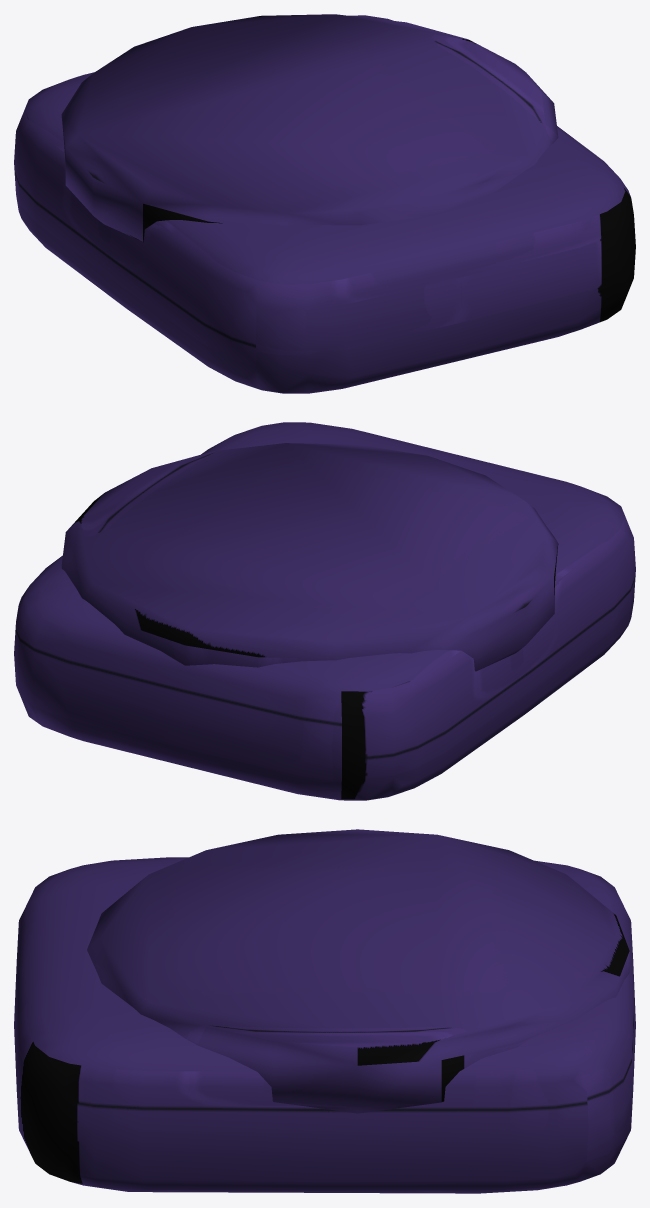
Rendered from Estela_BotaIzq.fbx.
The picture shows the model from 3 angles, top to bottom: view 1: azimuth 30°, elevation 25°; view 2: azimuth 150°, elevation 25°; view 3: azimuth 270°, elevation 25°; orthographic projection. The views are drawn at different scales.
Parts seen in each view (by area): view 1: Estela_BotaIzq; view 2: Estela_BotaIzq; view 3: Estela_BotaIzq.
Boxes of the visible parts, bbox=[...] form: Estela_BotaIzq: bbox=[14, 14, 635, 393]; Estela_BotaIzq: bbox=[14, 422, 635, 800]; Estela_BotaIzq: bbox=[14, 829, 635, 1193].
Size of the model in its own units: 1.19 by 0.4013 by 1.36.
